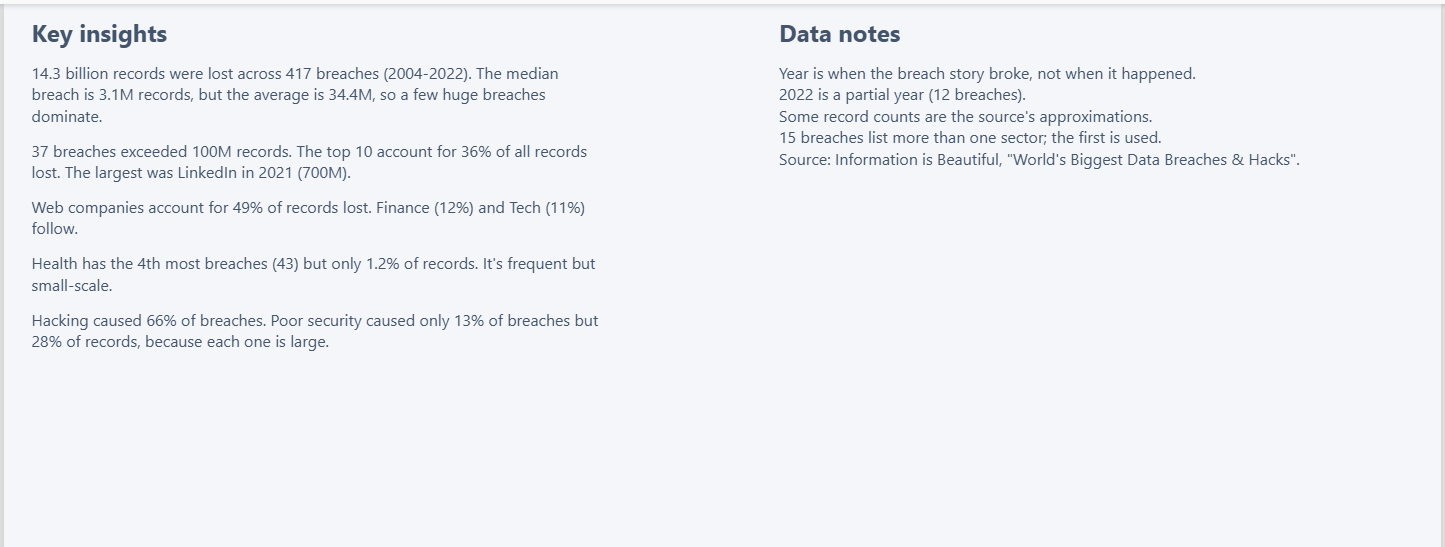

The page's visual inventory and layout, read from the dashboard file:
{"tool":"powerbi","page":{"name":"Insights","canvas":[1920,1080],"ordinal":2},"visuals":[{"type":"textbox","box":[10.3,16.5,895.4,627.8],"z":0},{"type":"textbox","box":[10,290,280,280],"z":1},{"type":"textbox","box":[10,580,280,280],"z":2},{"type":"textbox","box":[37,16.5,763.6,564],"z":3},{"type":"textbox","box":[1035.3,16.5,765.7,644.3],"z":4}]}

Visuals, with their boxes on the page's 1920x1080 design canvas (x1, y1, x2, y2). These are canvas units, not pixel positions in the 1445x547 screenshot, which may show the page scaled, cropped or inside an application window:
textbox: 10 16 906 644
textbox: 10 290 290 570
textbox: 10 580 290 860
textbox: 37 16 801 580
textbox: 1035 16 1801 661
